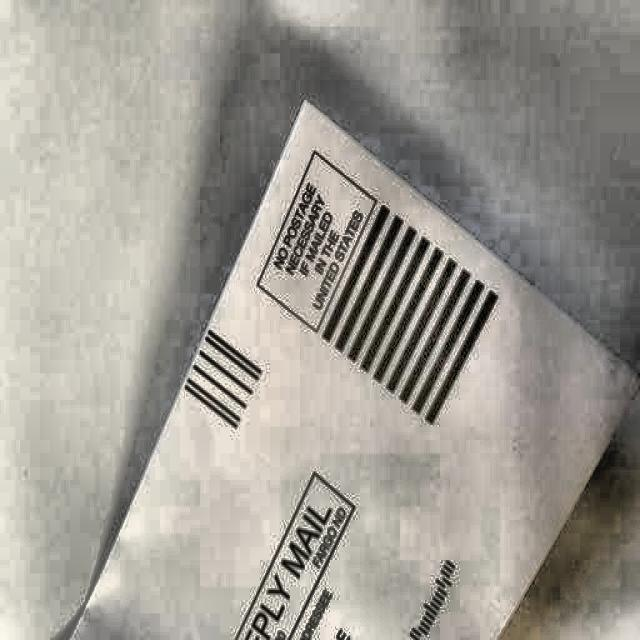paper: (66, 95, 640, 640)
